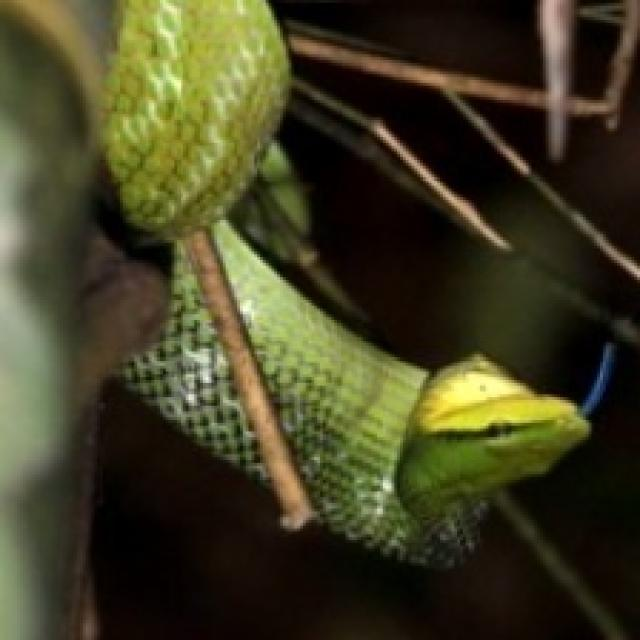red-tailed green ratsnake: (129, 223, 586, 560), (100, 0, 289, 240)
